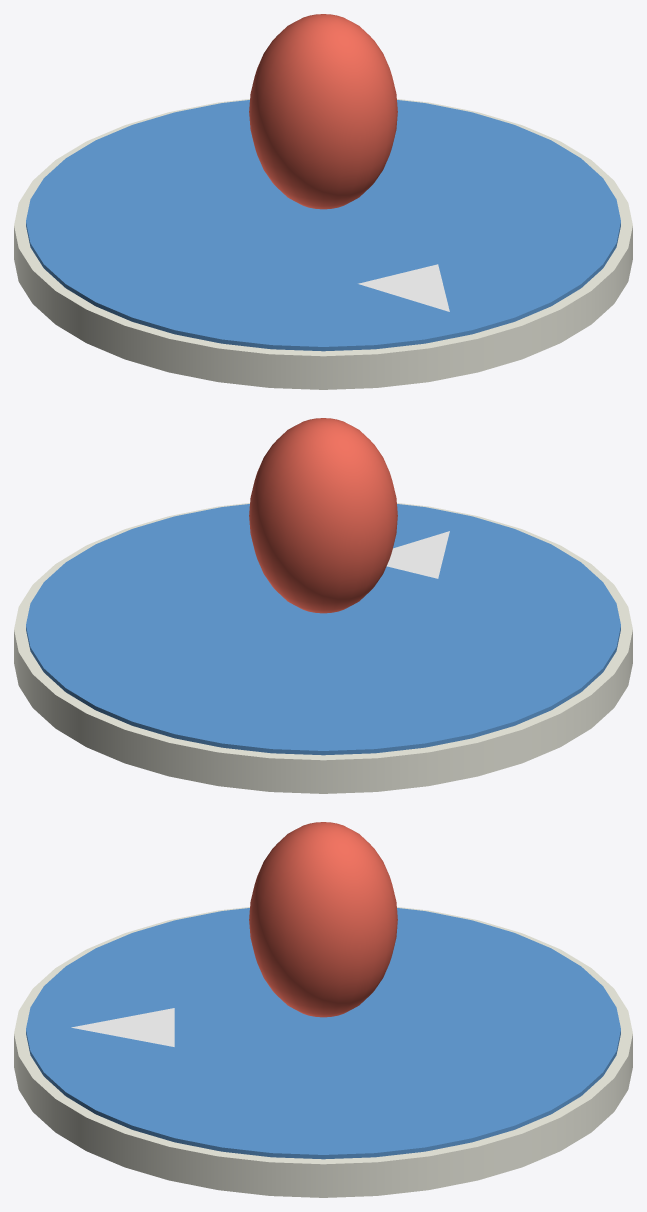
Rendered from dept6.glb.
3 views of the same model, one above another, from view 1: azimuth 30°, elevation 25°; view 2: azimuth 150°, elevation 25°; view 3: azimuth 270°, elevation 25° (orthographic).
Visible parts, largest first — view 1: PedestalBase, PedestalRim, PhoenixBody, PedestalAccent; view 2: PedestalBase, PedestalRim, PhoenixBody, PedestalAccent; view 3: PedestalBase, PedestalRim, PhoenixBody, PedestalAccent.
Boxes of the visible parts, x1=… form: PedestalBase: x1=26, y1=100, x2=620, y2=351; PedestalRim: x1=14, y1=99, x2=632, y2=389; PhoenixBody: x1=249, y1=14, x2=397, y2=209; PedestalAccent: x1=358, y1=264, x2=449, y2=311; PedestalBase: x1=26, y1=504, x2=620, y2=755; PedestalRim: x1=14, y1=503, x2=632, y2=793; PhoenixBody: x1=249, y1=418, x2=397, y2=613; PedestalAccent: x1=387, y1=531, x2=449, y2=578; PedestalBase: x1=26, y1=908, x2=620, y2=1159; PedestalRim: x1=14, y1=907, x2=632, y2=1197; PhoenixBody: x1=249, y1=822, x2=397, y2=1017; PedestalAccent: x1=71, y1=1008, x2=174, y2=1046.
Bounding box in the file's own units: 3.33 × 1.45 × 3.33.
